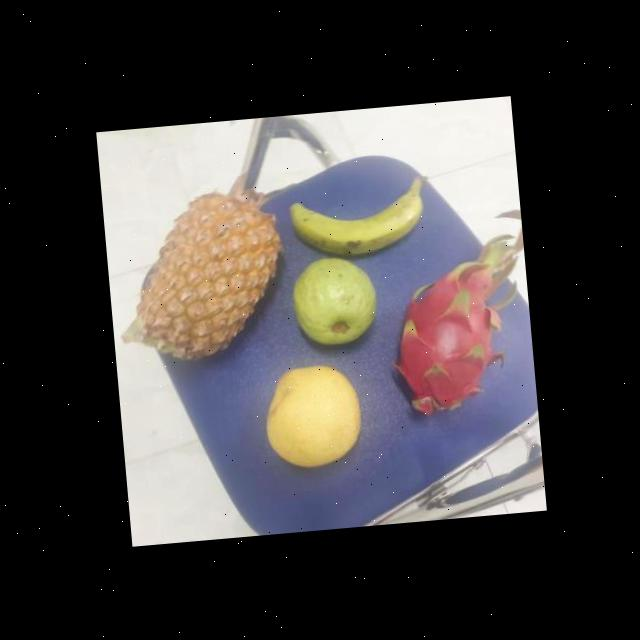banana: (284, 182, 421, 262)
guava: (284, 253, 378, 347)
pear: (256, 360, 366, 468)
pineapple: (116, 191, 282, 369)
pitaya: (380, 262, 512, 416)
